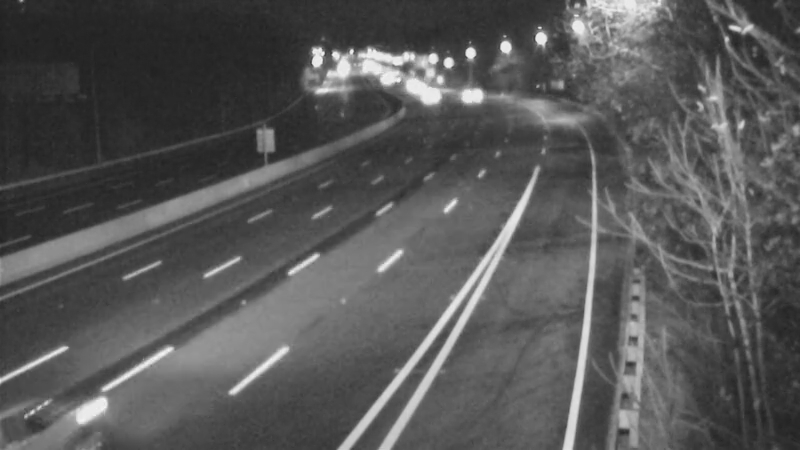vehicle: (400, 71, 450, 121), (441, 70, 491, 120)
